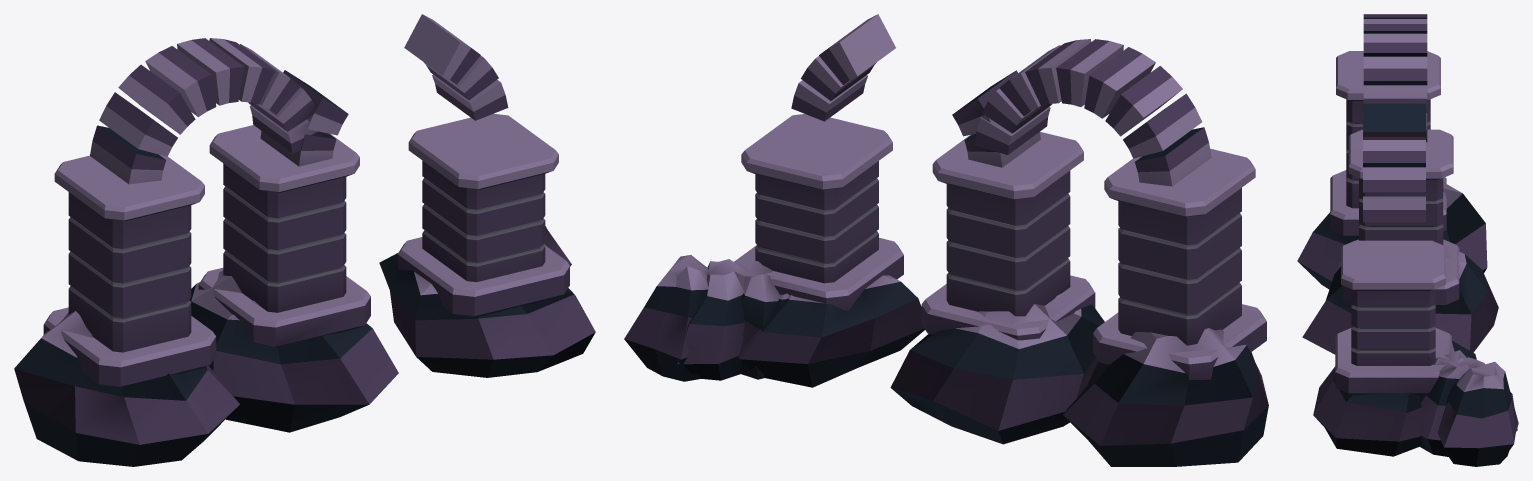
The model's file is sanctuary-broken-span.glb.
The picture shows the model from 3 angles, left to right: view 1: azimuth 30°, elevation 25°; view 2: azimuth 150°, elevation 25°; view 3: azimuth 270°, elevation 25°; orthographic projection. The views are drawn at different scales.
Visible parts, largest first — view 1: sanctuary-broken-span; view 2: sanctuary-broken-span; view 3: sanctuary-broken-span.
Part boxes in pixels (box(x1,y1,x2,y2)): sanctuary-broken-span: box(14, 14, 595, 466); sanctuary-broken-span: box(624, 14, 1268, 466); sanctuary-broken-span: box(1297, 14, 1518, 466).
Bounding box in the file's own units: 11.48 × 6.83 × 4.72.
